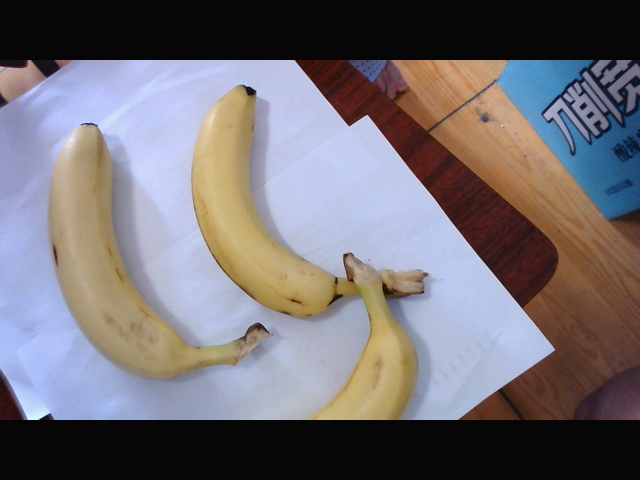banana: (32, 120, 189, 391), (194, 85, 339, 314), (309, 288, 444, 421)
